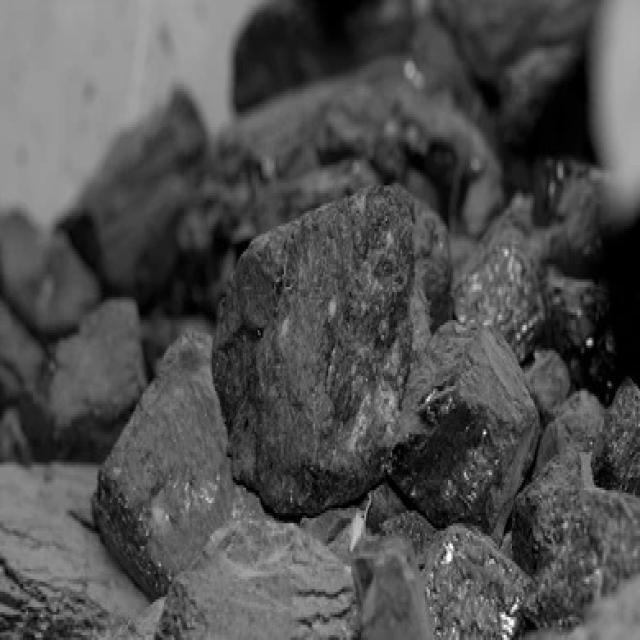Sedimentary: (217, 182, 420, 520), (98, 302, 232, 602), (404, 292, 545, 556)
